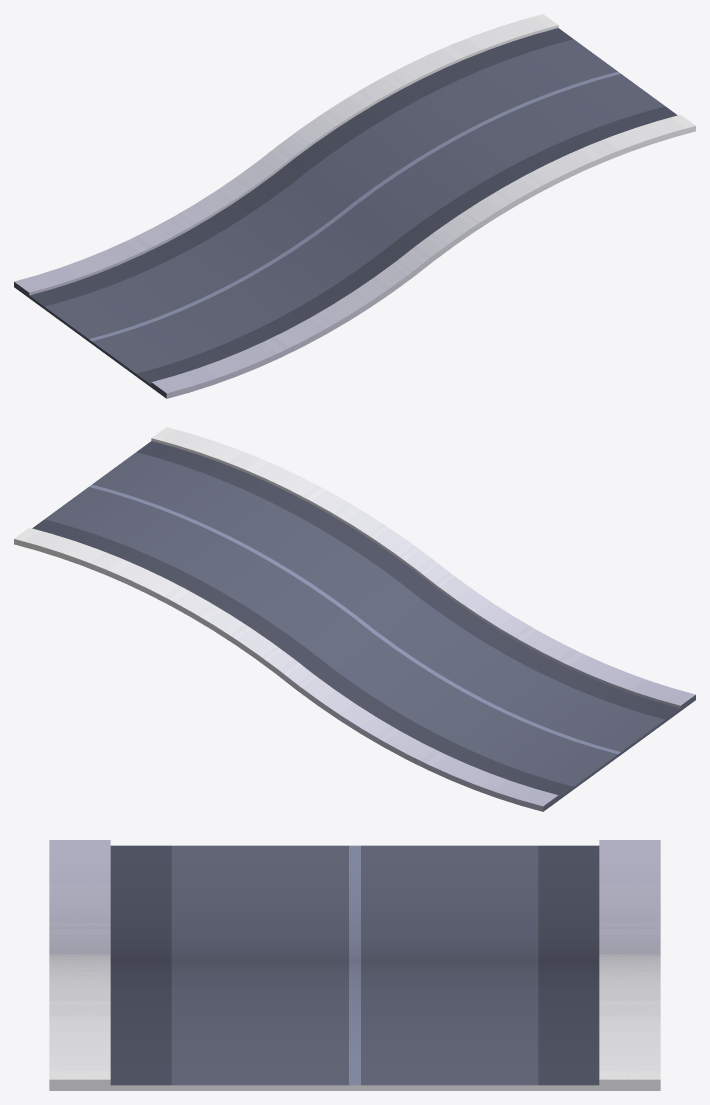
Rendered from road-slant-flat-curve.glb.
The picture shows the model from 3 angles, top to bottom: view 1: azimuth 30°, elevation 25°; view 2: azimuth 150°, elevation 25°; view 3: azimuth 270°, elevation 25°; orthographic projection. The views are drawn at different scales.
Parts seen in each view (by area): view 1: road-slant-flat-curve; view 2: road-slant-flat-curve; view 3: road-slant-flat-curve.
Part boxes in pixels (<box>): road-slant-flat-curve: <box>14,14,695,398</box>; road-slant-flat-curve: <box>14,427,695,811</box>; road-slant-flat-curve: <box>49,840,660,1090</box>.
Bounding box in the file's own units: 2 × 0.52 × 1.
1 material, 1 textured.
